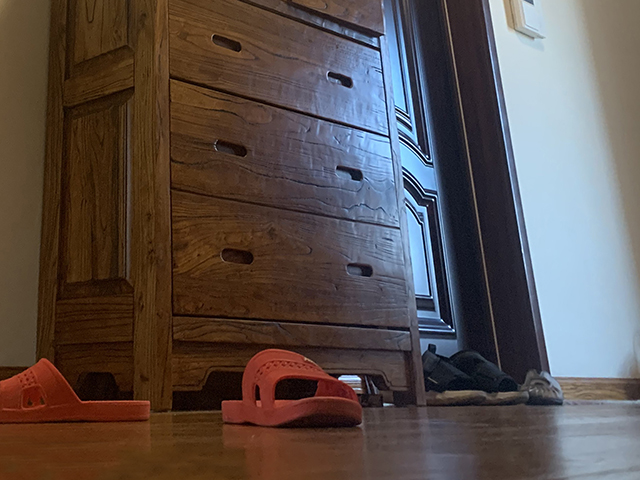cabinet: (36, 1, 426, 412)
slippers: (220, 346, 364, 428), (1, 357, 152, 421)
